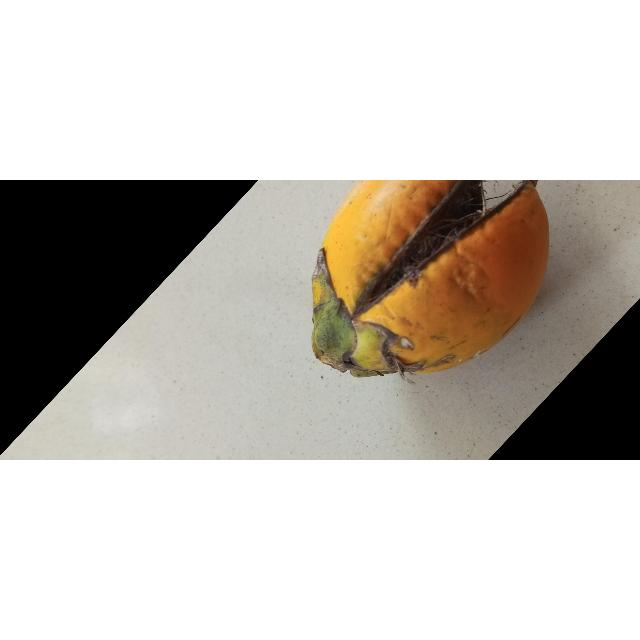damaged: (313, 180, 549, 378)
